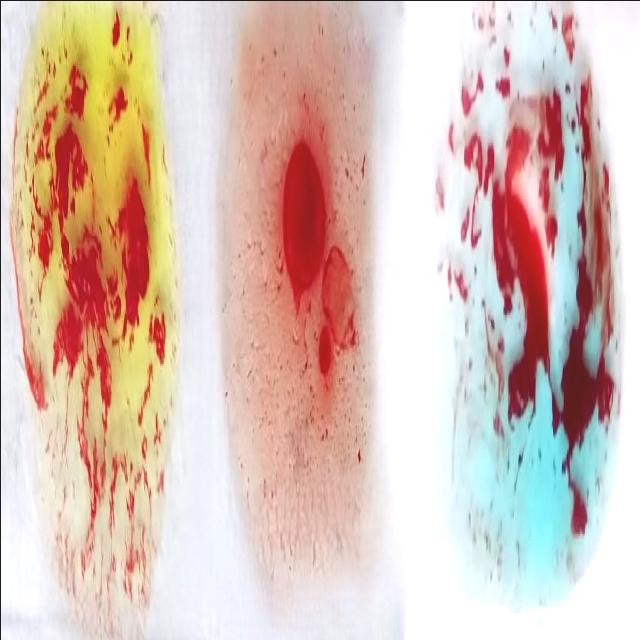A: (447, 0, 619, 620)
B: (23, 0, 164, 638)
D: (229, 12, 368, 609)
